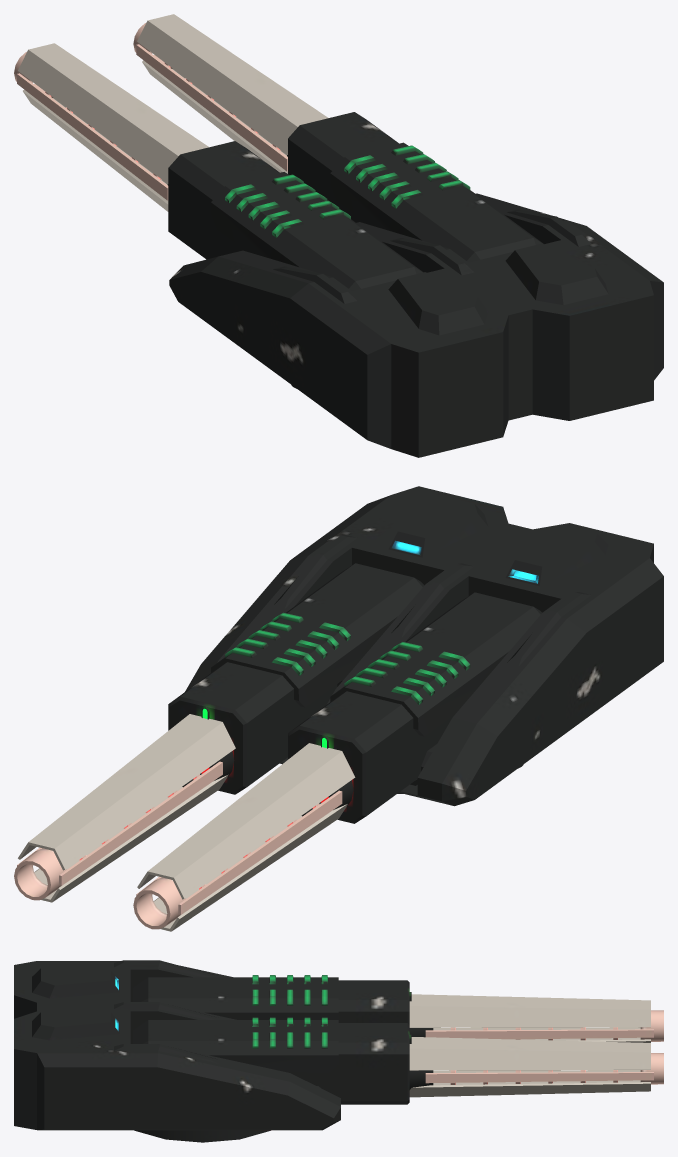
The model's file is turret_large.gltf.
3 renders of one model, top to bottom at view 1: azimuth 30°, elevation 25°; view 2: azimuth 150°, elevation 25°; view 3: azimuth 270°, elevation 25°, orthographic. The views are drawn at different scales.
Parts seen in each view (by area): view 1: base, pivot, barrel.001, barrel; view 2: base, barrel.001, barrel, pivot; view 3: base, barrel, pivot, barrel.001.
Part boxes in pixels (x1,y1,x2,y2): base: (169,193,663,457); pivot: (210,142,543,290); barrel.001: (14,43,279,259); barrel: (133,14,398,224); base: (185,486,663,806); barrel.001: (133,691,454,931); barrel: (14,662,337,902); pivot: (211,563,541,785); base: (14,960,340,1142); barrel: (288,1023,663,1104); pivot: (133,975,338,1087); barrel.001: (338,980,663,1042).
Size of the model in its own units: 1.78 by 0.8254 by 4.62.
1 material, 1 textured.
